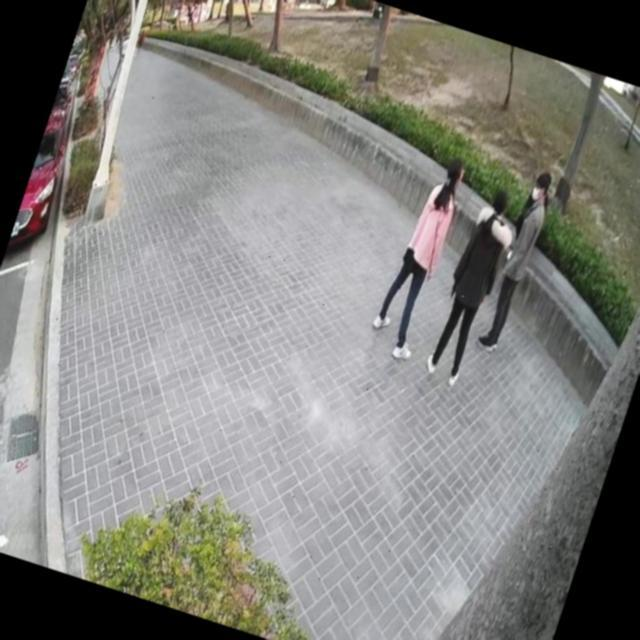person: (360, 143, 480, 370), (419, 179, 530, 394), (473, 163, 562, 360), (112, 28, 136, 74)
